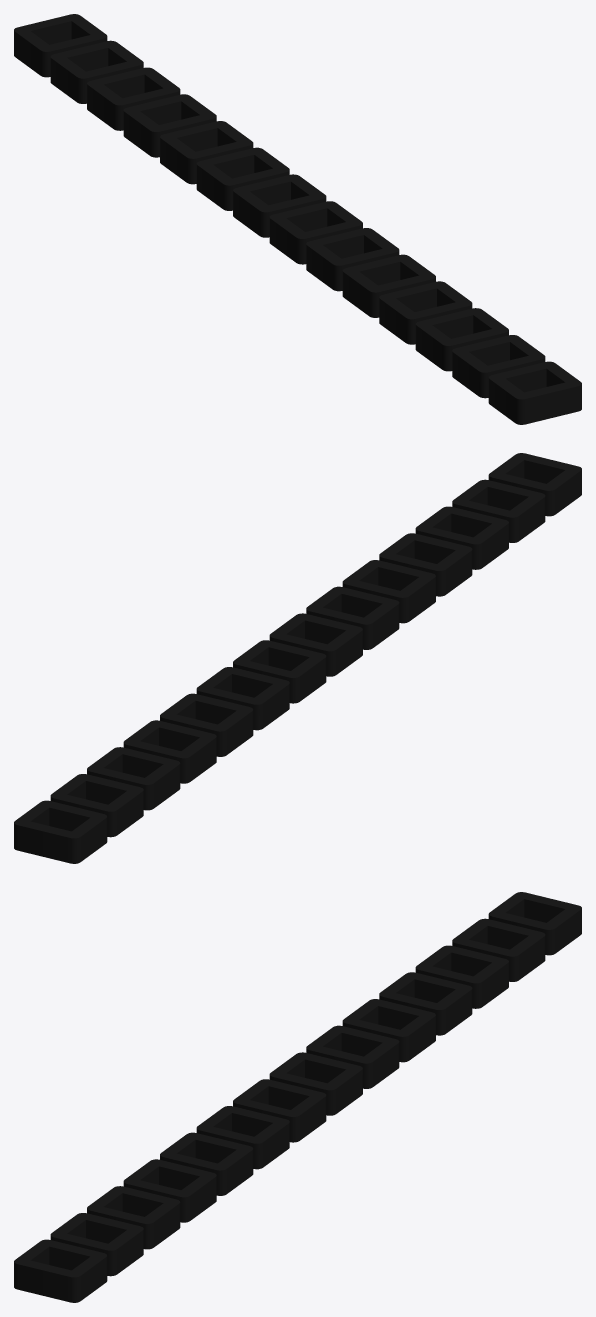
The picture shows the model from 3 angles, top to bottom: view 1: azimuth 30°, elevation 25°; view 2: azimuth 150°, elevation 25°; view 3: azimuth 330°, elevation 25°; orthographic projection.
Parts seen in each view (by area): view 1: Cube; view 2: Cube; view 3: Cube.
Part boxes in pixels (left/top/right/bottom): Cube: left=14, top=14, right=581, bottom=424; Cube: left=14, top=453, right=581, bottom=863; Cube: left=14, top=892, right=581, bottom=1302.
Bounding box in the file's own units: 5.65 × 2.1 × 75.93.
Materials: 1 (1 with a texture image).
